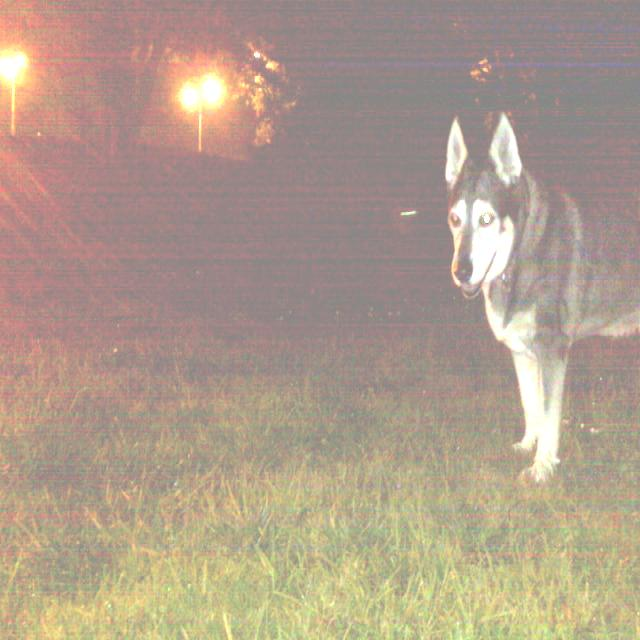Dog: (409, 11, 640, 493)
